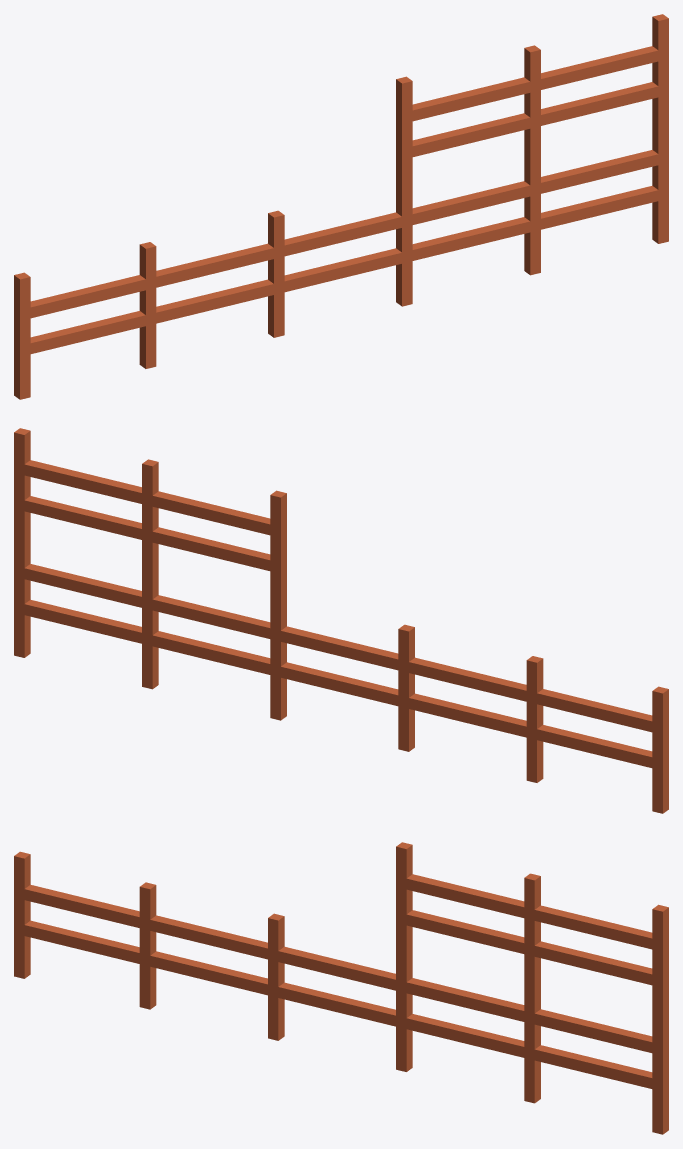
File: fence_2.glb
3 renders of one model, top to bottom at view 1: azimuth 30°, elevation 25°; view 2: azimuth 150°, elevation 25°; view 3: azimuth 330°, elevation 25°, orthographic.
Parts seen in each view (by area): view 1: Fence2; view 2: Fence2; view 3: Fence2.
Part boxes in pixels (x1,y1,x2,y2): Fence2: (14,14,668,399); Fence2: (14,428,668,813); Fence2: (14,842,668,1134).
Size of the model in its own units: 5.13 by 1.69 by 0.0832.
Materials: 1 (1 with a texture image).
